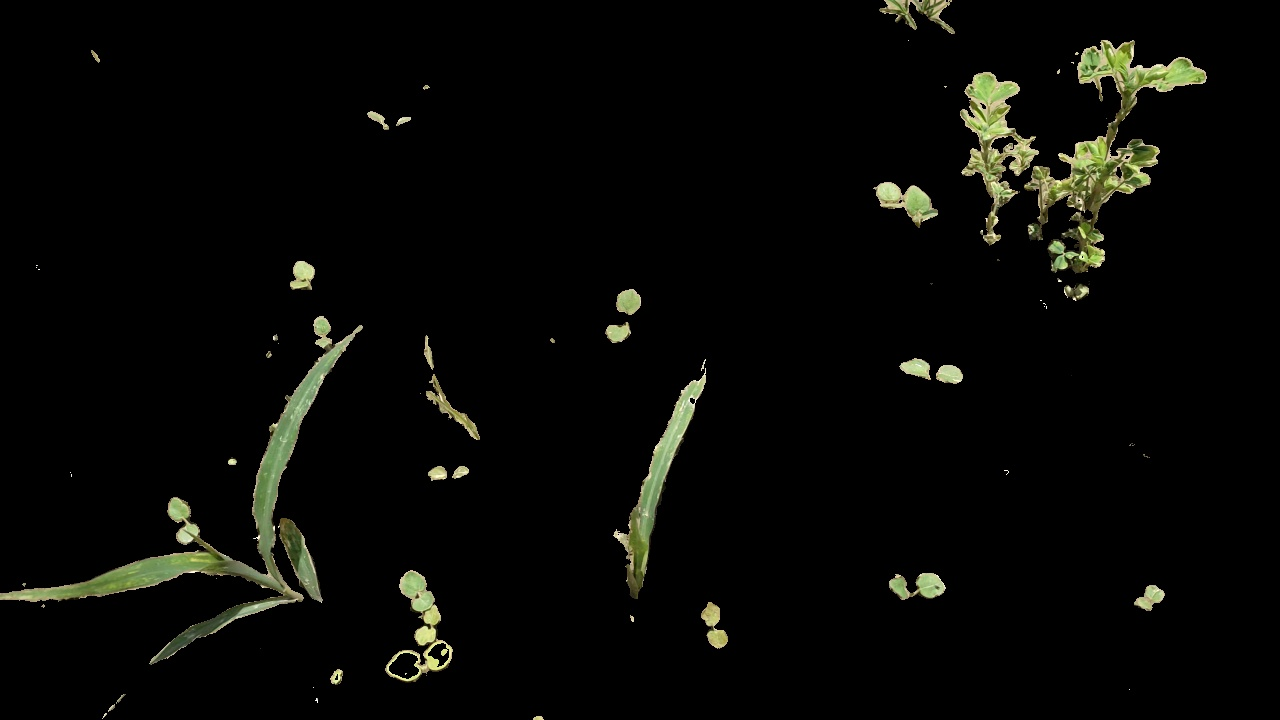crop: (2, 544, 333, 669), (246, 318, 365, 618), (596, 356, 737, 596), (282, 254, 322, 304)
weed: (959, 42, 1214, 306), (390, 564, 454, 683), (874, 553, 962, 609), (874, 165, 942, 237), (589, 281, 660, 345), (898, 352, 971, 398), (155, 490, 211, 544), (687, 605, 740, 649), (1131, 570, 1170, 625), (350, 105, 421, 134), (424, 459, 479, 490)
